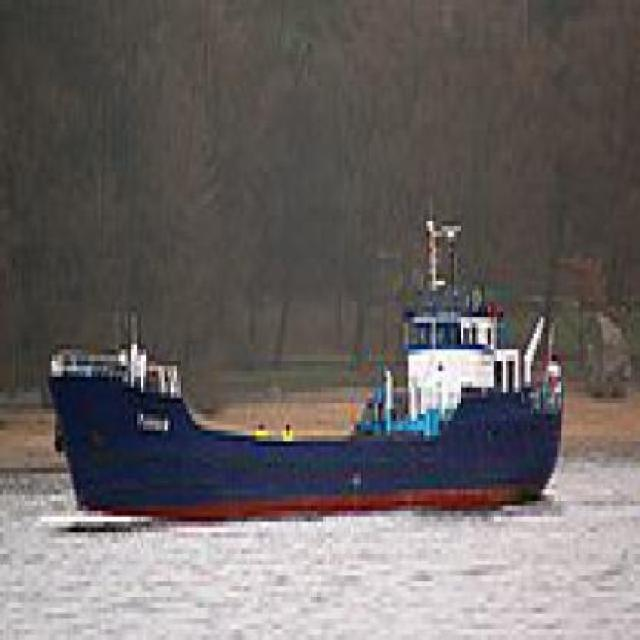container: (34, 194, 580, 539)
